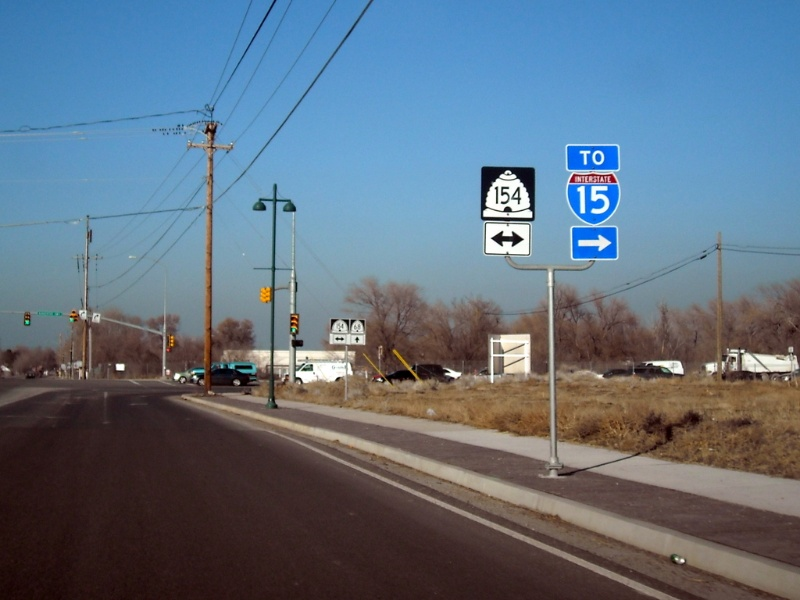green_light: (19, 304, 36, 342)
